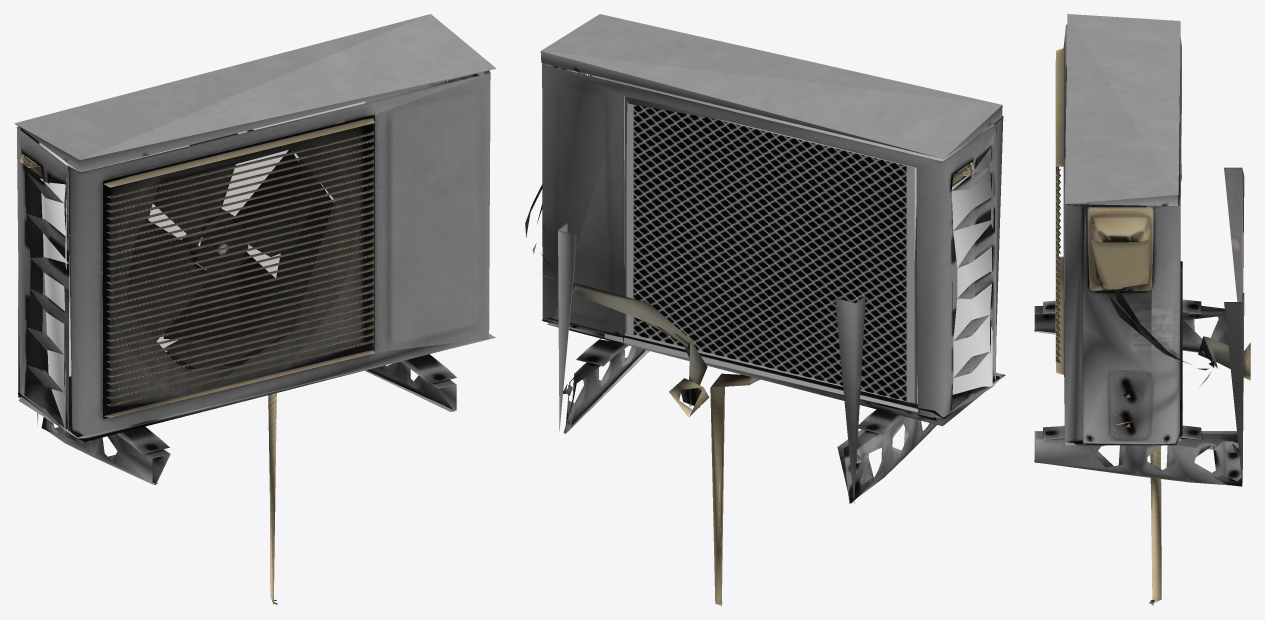
File: aircon.glb
3 views of the same model, side by side, from view 1: azimuth 30°, elevation 25°; view 2: azimuth 150°, elevation 25°; view 3: azimuth 270°, elevation 25° (orthographic). The views are drawn at different scales.
Visible parts, largest first — view 1: exterior_aircon_unit; view 2: exterior_aircon_unit; view 3: exterior_aircon_unit.
Boxes of the visible parts, left/top/right/bottom form: exterior_aircon_unit: left=14, top=14, right=496, bottom=605; exterior_aircon_unit: left=525, top=14, right=1005, bottom=605; exterior_aircon_unit: left=1034, top=14, right=1250, bottom=605.
Size of the model in its own units: 0.8489 by 0.9898 by 0.4009.
2 materials, 2 textured.
